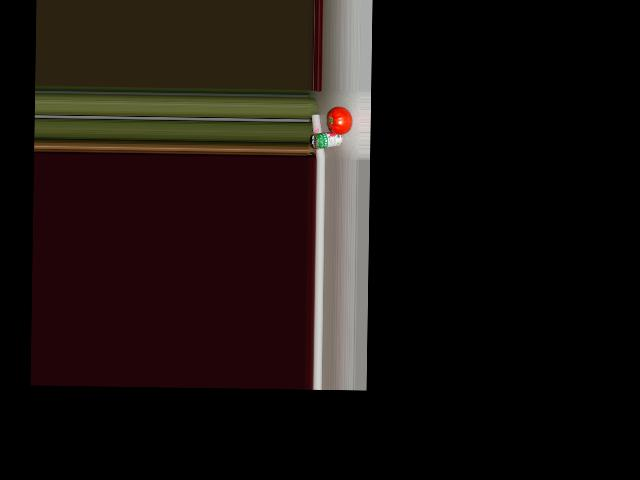tomato: (328, 106, 352, 134)
